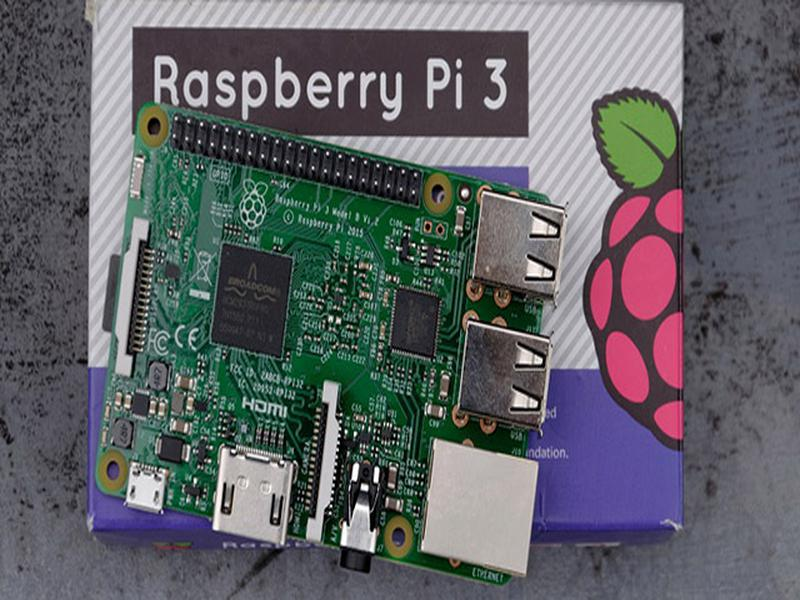Raspberry_Pi_3: (92, 94, 573, 593)
